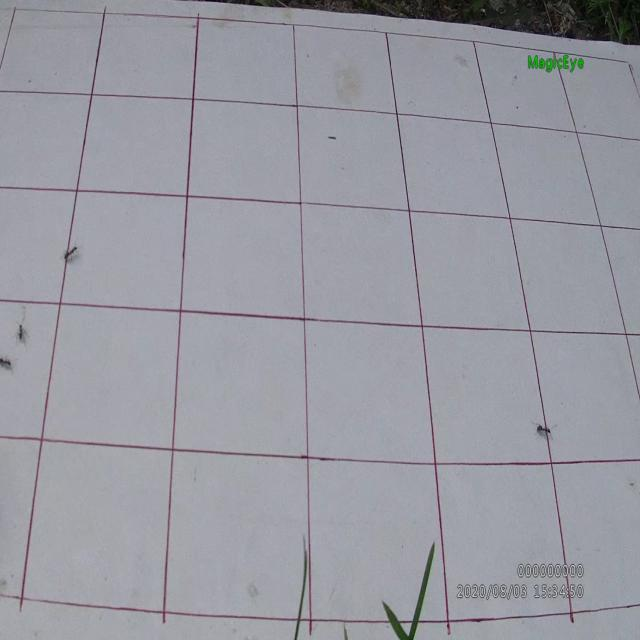Ant: (530, 419, 558, 441), (59, 239, 81, 264), (14, 316, 29, 350), (0, 351, 18, 373)
